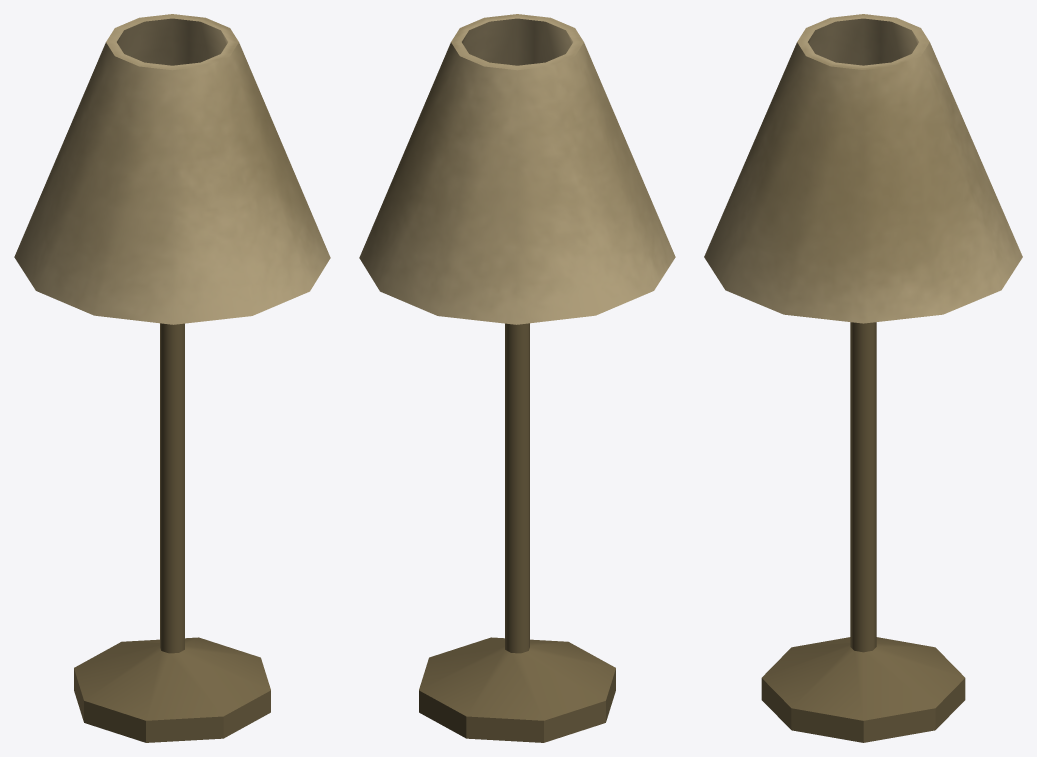
Rendered from living room lamp.fbx.
3 renders of one model, left to right at view 1: azimuth 30°, elevation 25°; view 2: azimuth 150°, elevation 25°; view 3: azimuth 270°, elevation 25°, orthographic.
Visible parts, largest first — view 1: polySurface409; view 2: polySurface409; view 3: polySurface409.
Part boxes in pixels (x1,y1,x2,y2): polySurface409: [14, 14, 330, 742]; polySurface409: [359, 14, 675, 742]; polySurface409: [704, 14, 1022, 742].
Size of the model in its own units: 0.719 by 1.66 by 0.7284.
Materials: 1 (1 with a texture image).
